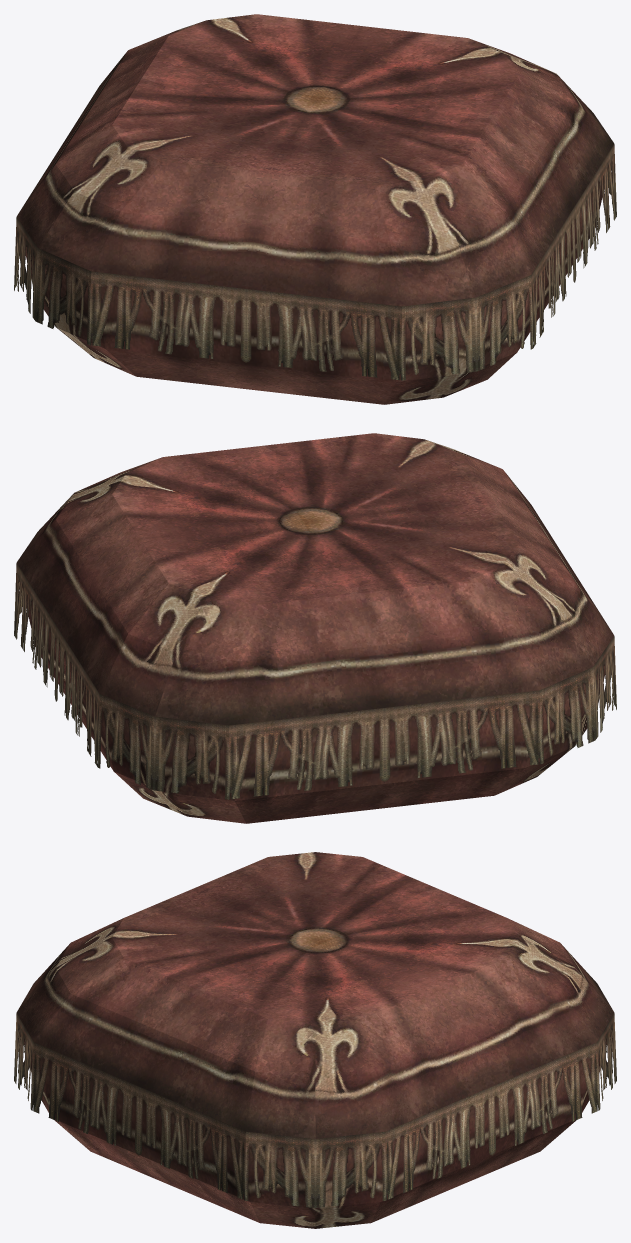
File: bg_lut_lucastle_decoprop03b_sm_ysi.FBX
3 views of the same model, one above another, from view 1: azimuth 30°, elevation 25°; view 2: azimuth 150°, elevation 25°; view 3: azimuth 270°, elevation 25° (orthographic). The views are drawn at different scales.
Parts seen in each view (by area): view 1: bg_lut_lucastle_decoprop03b_sm_ysi; view 2: bg_lut_lucastle_decoprop03b_sm_ysi; view 3: bg_lut_lucastle_decoprop03b_sm_ysi.
Part boxes in pixels (box(x1,y1,x2,y2)): bg_lut_lucastle_decoprop03b_sm_ysi: box(14, 14, 616, 404); bg_lut_lucastle_decoprop03b_sm_ysi: box(14, 433, 616, 823); bg_lut_lucastle_decoprop03b_sm_ysi: box(14, 852, 616, 1228).
Bounding box in the file's own units: 60.61 × 21.76 × 60.61.
